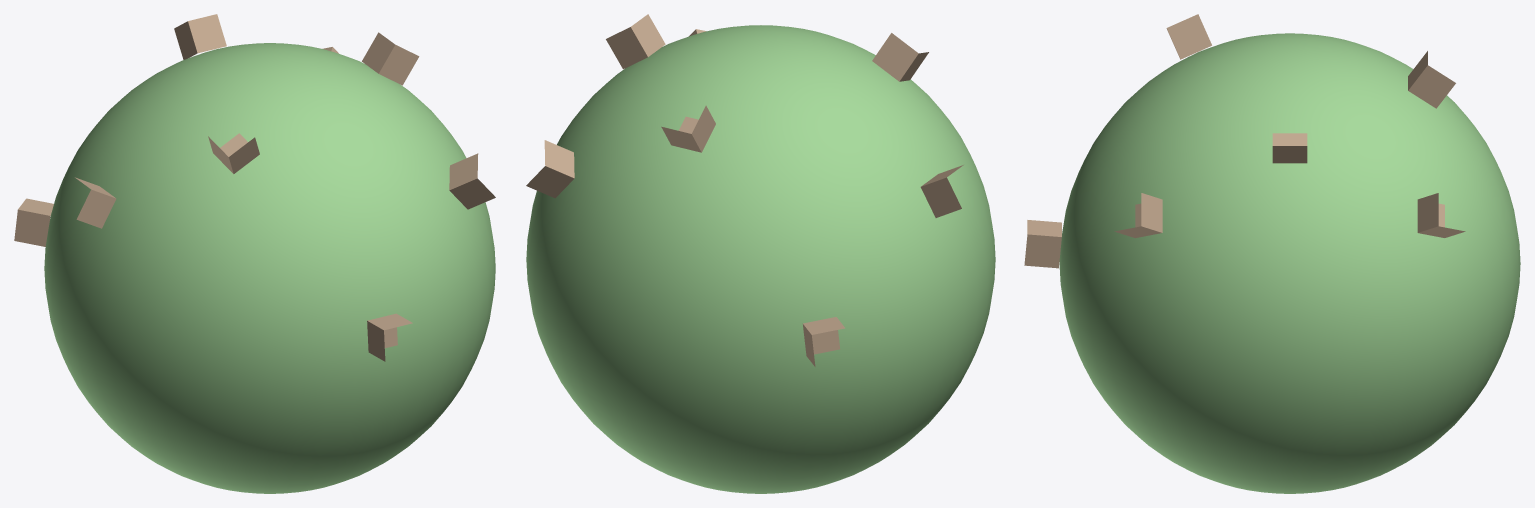
File: Planet.glb
The picture shows the model from 3 angles, left to right: view 1: azimuth 30°, elevation 25°; view 2: azimuth 150°, elevation 25°; view 3: azimuth 270°, elevation 25°; orthographic projection. The views are drawn at different scales.
Visible parts, largest first — view 1: planet; view 2: planet; view 3: planet.
Part boxes in pixels (x1,y1,x2,y2): planet: (14, 14, 495, 493); planet: (526, 14, 995, 493); planet: (1024, 14, 1520, 493).
Bounding box in the file's own units: 4.07 × 4.01 × 4.3.
